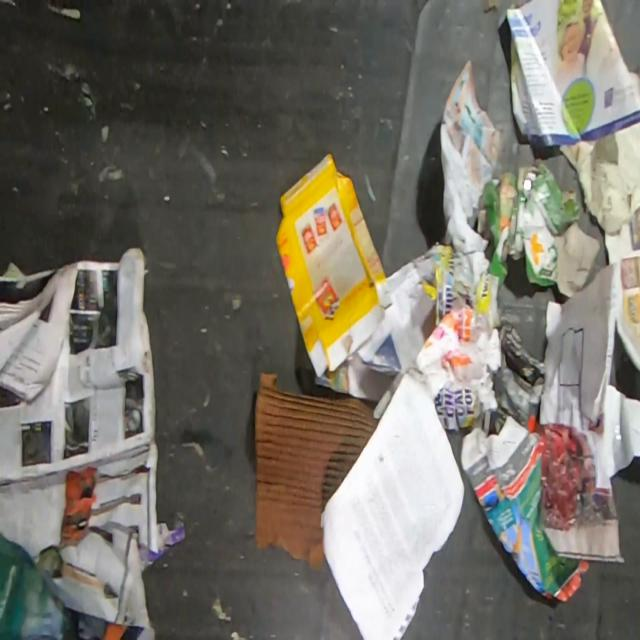cardboard: (274, 152, 398, 380), (254, 371, 382, 571)
metal: (522, 170, 536, 199)
